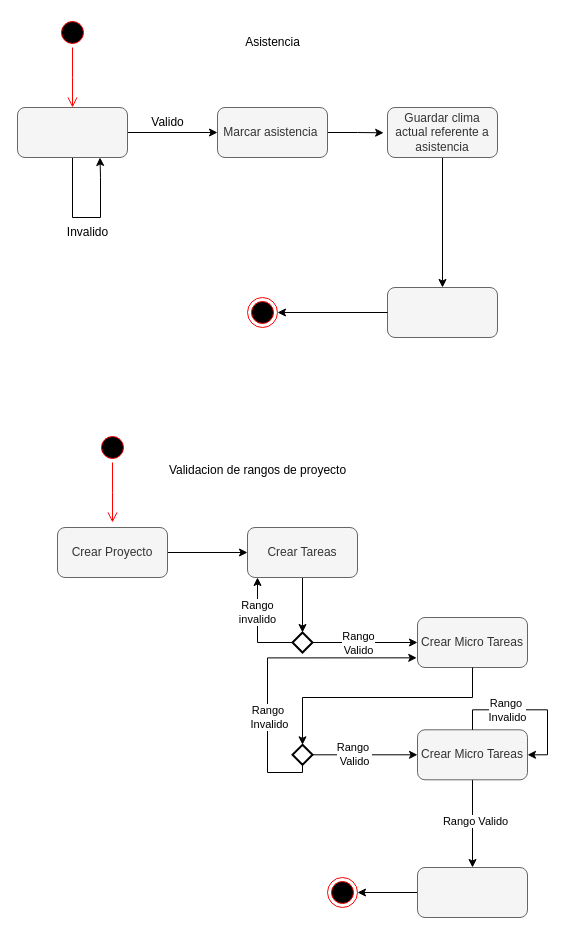
This 573x935 diagram has some shape labels left out. Here are the shapes that lost their labels. From the top down, the box of each, then its label:
(16, 106, 128, 158): Chequear usuario
(386, 286, 498, 338): Mostrar registro
(416, 866, 528, 918): Proyecto creado
